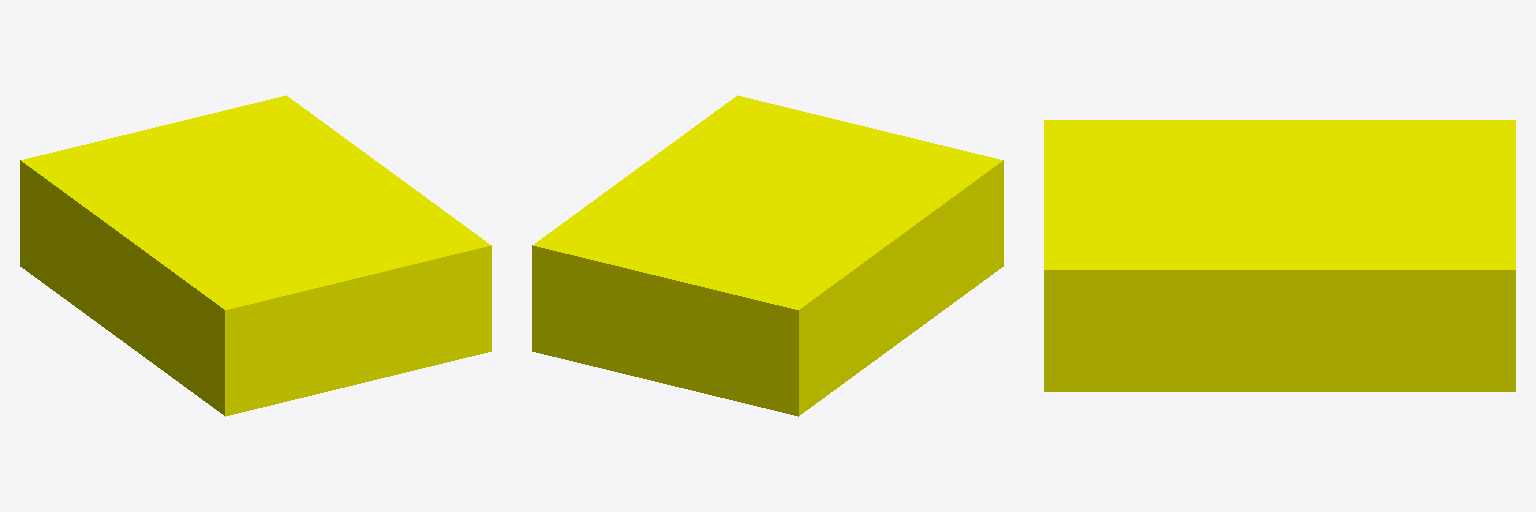
URDF robot description (cube):
<?xml version="1.0"?>
 <robot name="cube">
   <material name="purple">
     <color rgba="0.57647059 0.43921569 0.85882353 1"/>
   </material>
   <material name="yellow">
     <color rgba="1.0 1.0 0.0 1"/>
   </material>
   <link name="base_link">
     <visual>
       <geometry>
         <box size="0.16 0.21343700408935547 0.061"/>
       </geometry>
       <material name="yellow"/>
     </visual>
     <inertial>
       <mass value="0"/>
       <inertia ixx="1.0" ixy="0.0" ixz="0.0" iyy="1.0" iyz="0.0" izz="1.0"/>
     </inertial>
   </link>
 </robot>

--- Facts derived from the render (not from the file) ---
The picture shows the robot from 3 angles, left to right: view 1: azimuth 30°, elevation 25°; view 2: azimuth 150°, elevation 25°; view 3: azimuth 270°, elevation 25°; orthographic projection.
Robot: cube — 1 links, 0 joints (none); root link base_link; default pose: every joint at zero.
Visible links, largest first — view 1: base_link; view 2: base_link; view 3: base_link.
Link boxes in pixels (x1=…): base_link: x1=20, y1=95, x2=491, y2=416; base_link: x1=532, y1=95, x2=1003, y2=416; base_link: x1=1044, y1=120, x2=1515, y2=391.
Bounding box of the posed robot: 0.16 × 0.2134 × 0.061 m (x, y, z).
Geometry: primitives only (box / cylinder / sphere), no mesh files.